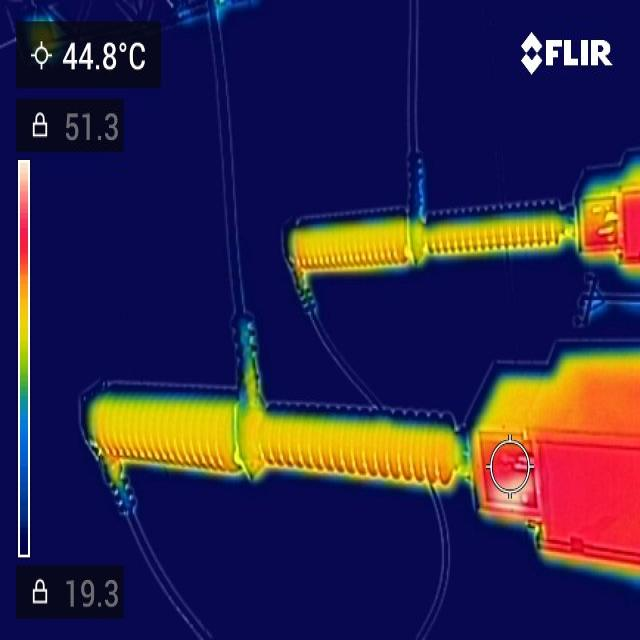Zona_Atenco: (530, 367, 637, 432)
Zona_Critica: (488, 441, 639, 552), (591, 195, 639, 261)
Zona_Extrema: (491, 476, 539, 519)
